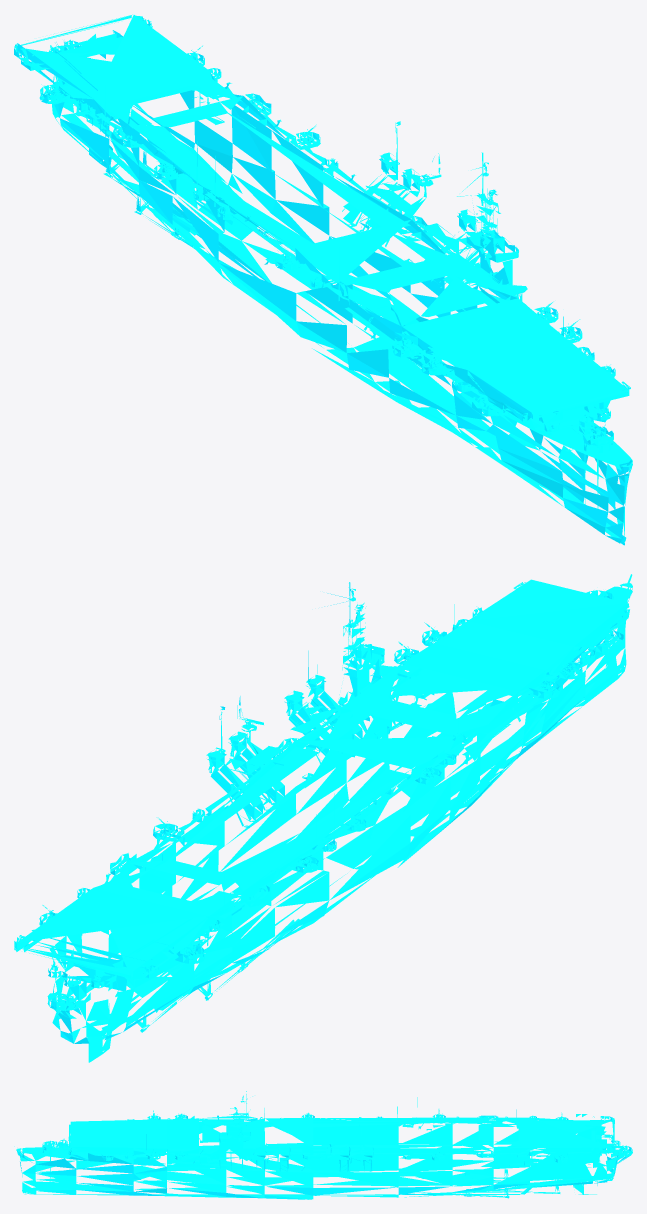
Rendered from Independence.glb.
3 renders of one model, top to bottom at view 1: azimuth 30°, elevation 25°; view 2: azimuth 150°, elevation 25°; view 3: azimuth 270°, elevation 25°, orthographic. The views are drawn at different scales.
Bounding box in the file's own units: 2.46 × 2.74 × 12.71.
